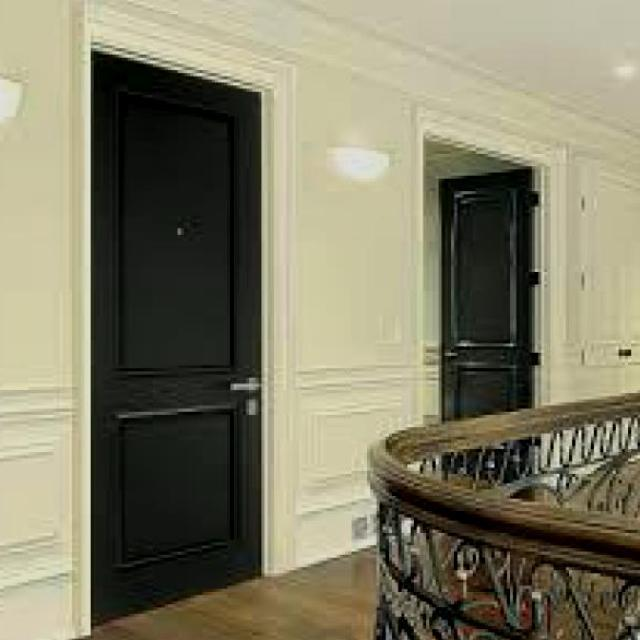door: (89, 50, 263, 626)
